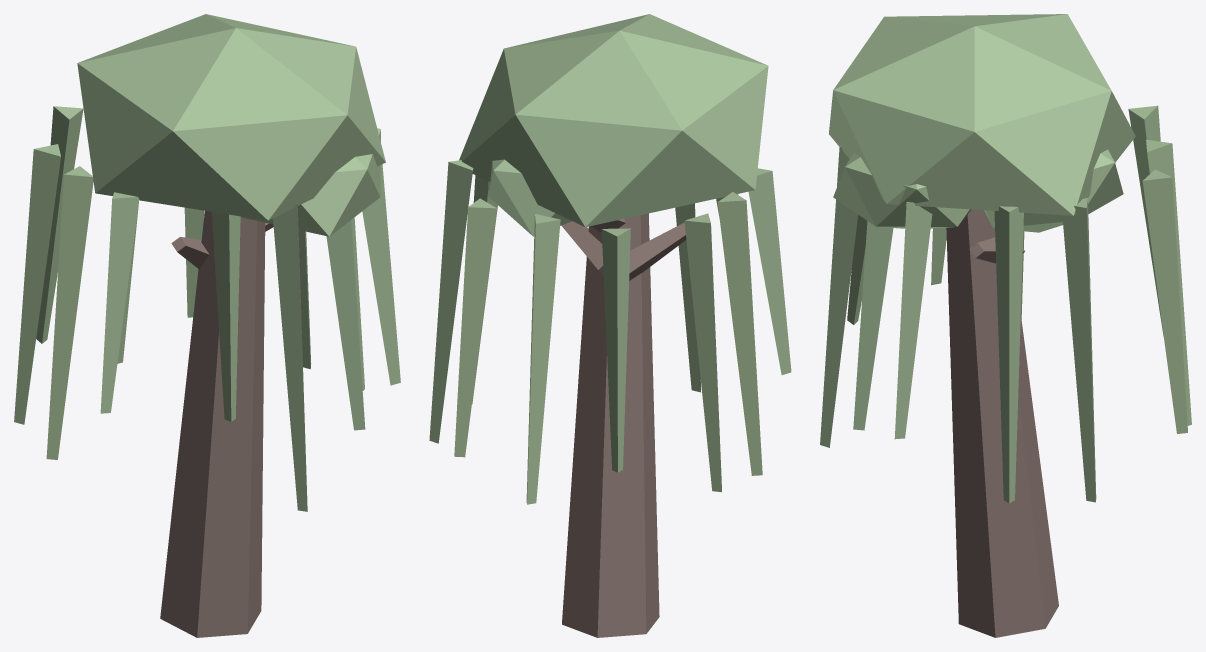
Rendered from arv_salgueiro_6_sem_textura.glb.
3 renders of one model, left to right at view 1: azimuth 30°, elevation 25°; view 2: azimuth 150°, elevation 25°; view 3: azimuth 270°, elevation 25°, orthographic. The views are drawn at different scales.
Parts seen in each view (by area): view 1: arv_salgueiro_6; view 2: arv_salgueiro_6; view 3: arv_salgueiro_6.
Boxes of the visible parts, x1,y1,x2,y2 form: arv_salgueiro_6: (14,14,400,637); arv_salgueiro_6: (429,14,791,637); arv_salgueiro_6: (820,14,1191,637).
Bounding box in the file's own units: 0.8334 × 1.52 × 0.8582.
